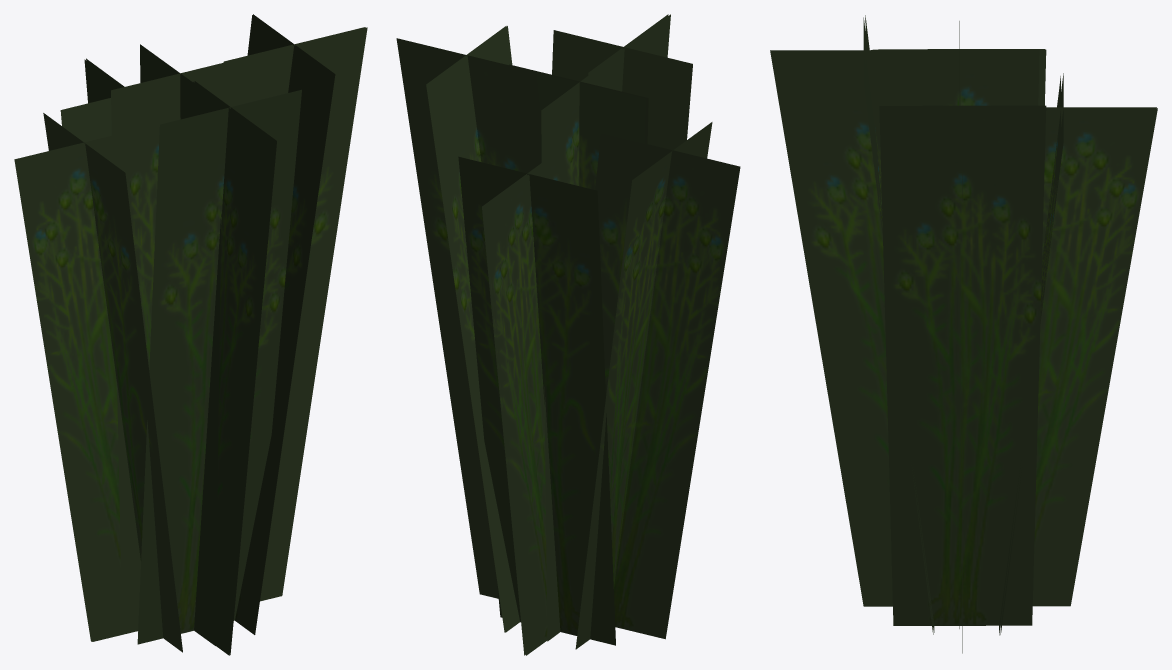
Rendered from gardenbed_flax1.FBX.
3 renders of one model, left to right at view 1: azimuth 30°, elevation 25°; view 2: azimuth 150°, elevation 25°; view 3: azimuth 270°, elevation 25°, orthographic. The views are drawn at different scales.
Parts seen in each view (by area): view 1: gardenbed_flax1; view 2: gardenbed_flax1; view 3: gardenbed_flax1.
Boxes of the visible parts, bbox=[...] form: gardenbed_flax1: bbox=[14, 14, 367, 655]; gardenbed_flax1: bbox=[396, 14, 740, 655]; gardenbed_flax1: bbox=[770, 15, 1157, 653].
Bounding box in the file's own units: 21.1 × 31.36 × 19.86.
1 material, 1 textured.
